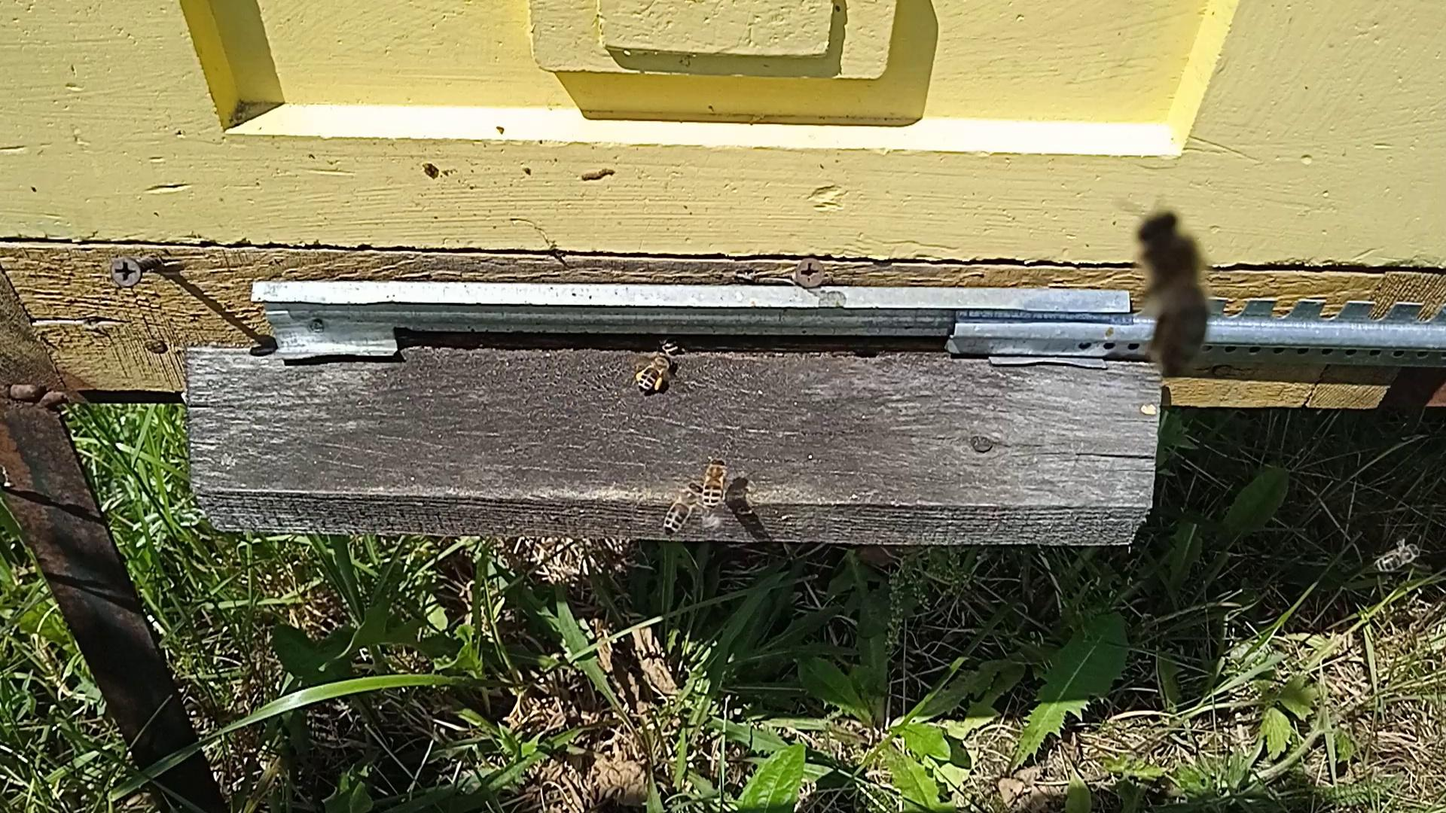worker-bee: (664, 482, 704, 534), (633, 351, 675, 394), (702, 457, 731, 510), (1374, 542, 1423, 571), (657, 333, 683, 356)
